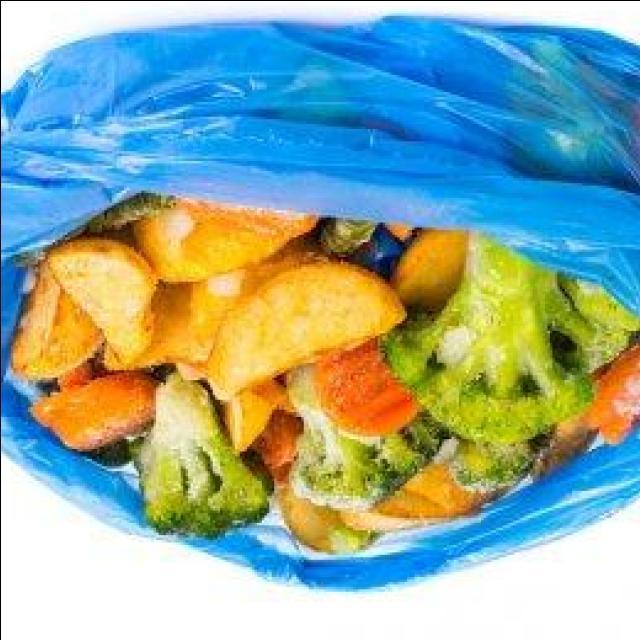Garbage: (4, 199, 638, 558)
